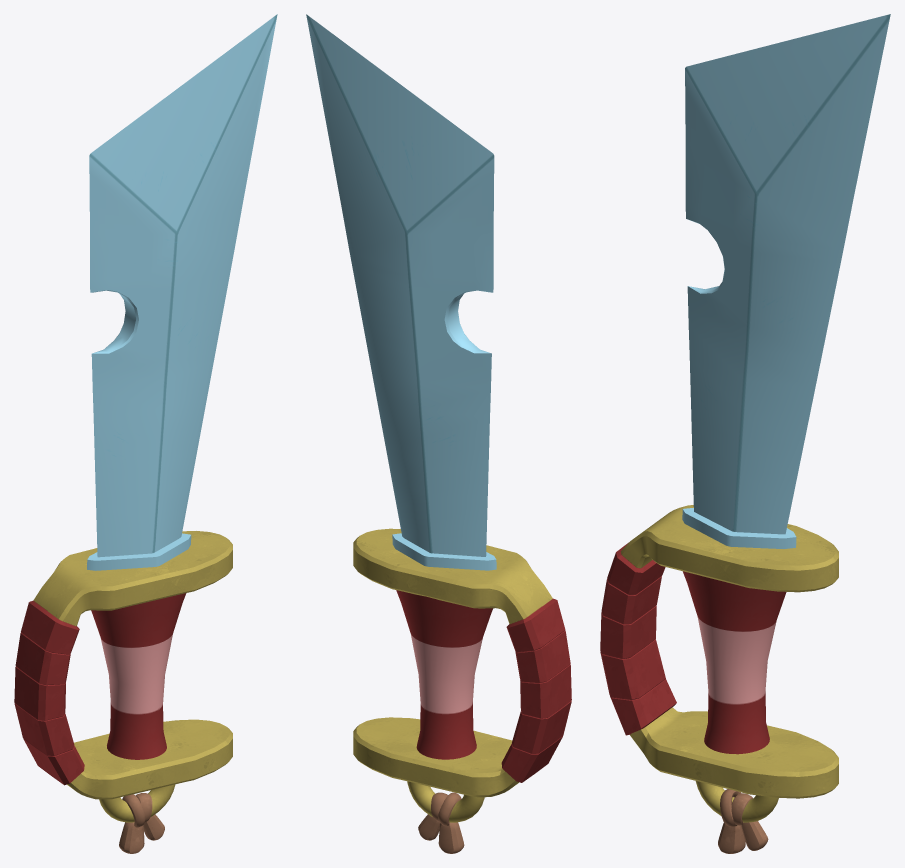
File: Sword ONE OBJECT.fbx
3 views of the same model, side by side, from view 1: azimuth 30°, elevation 25°; view 2: azimuth 150°, elevation 25°; view 3: azimuth 330°, elevation 25° (orthographic). The views are drawn at different scales.
Parts seen in each view (by area): view 1: Cylinder.004; view 2: Cylinder.004; view 3: Cylinder.004.
Boxes of the visible parts, x1=… form: Cylinder.004: x1=14, y1=14, x2=277, y2=853; Cylinder.004: x1=306, y1=14, x2=571, y2=853; Cylinder.004: x1=600, y1=14, x2=890, y2=853.
Bounding box in the file's own units: 132 × 400 × 43.25.
Materials: 1 (1 with a texture image).
